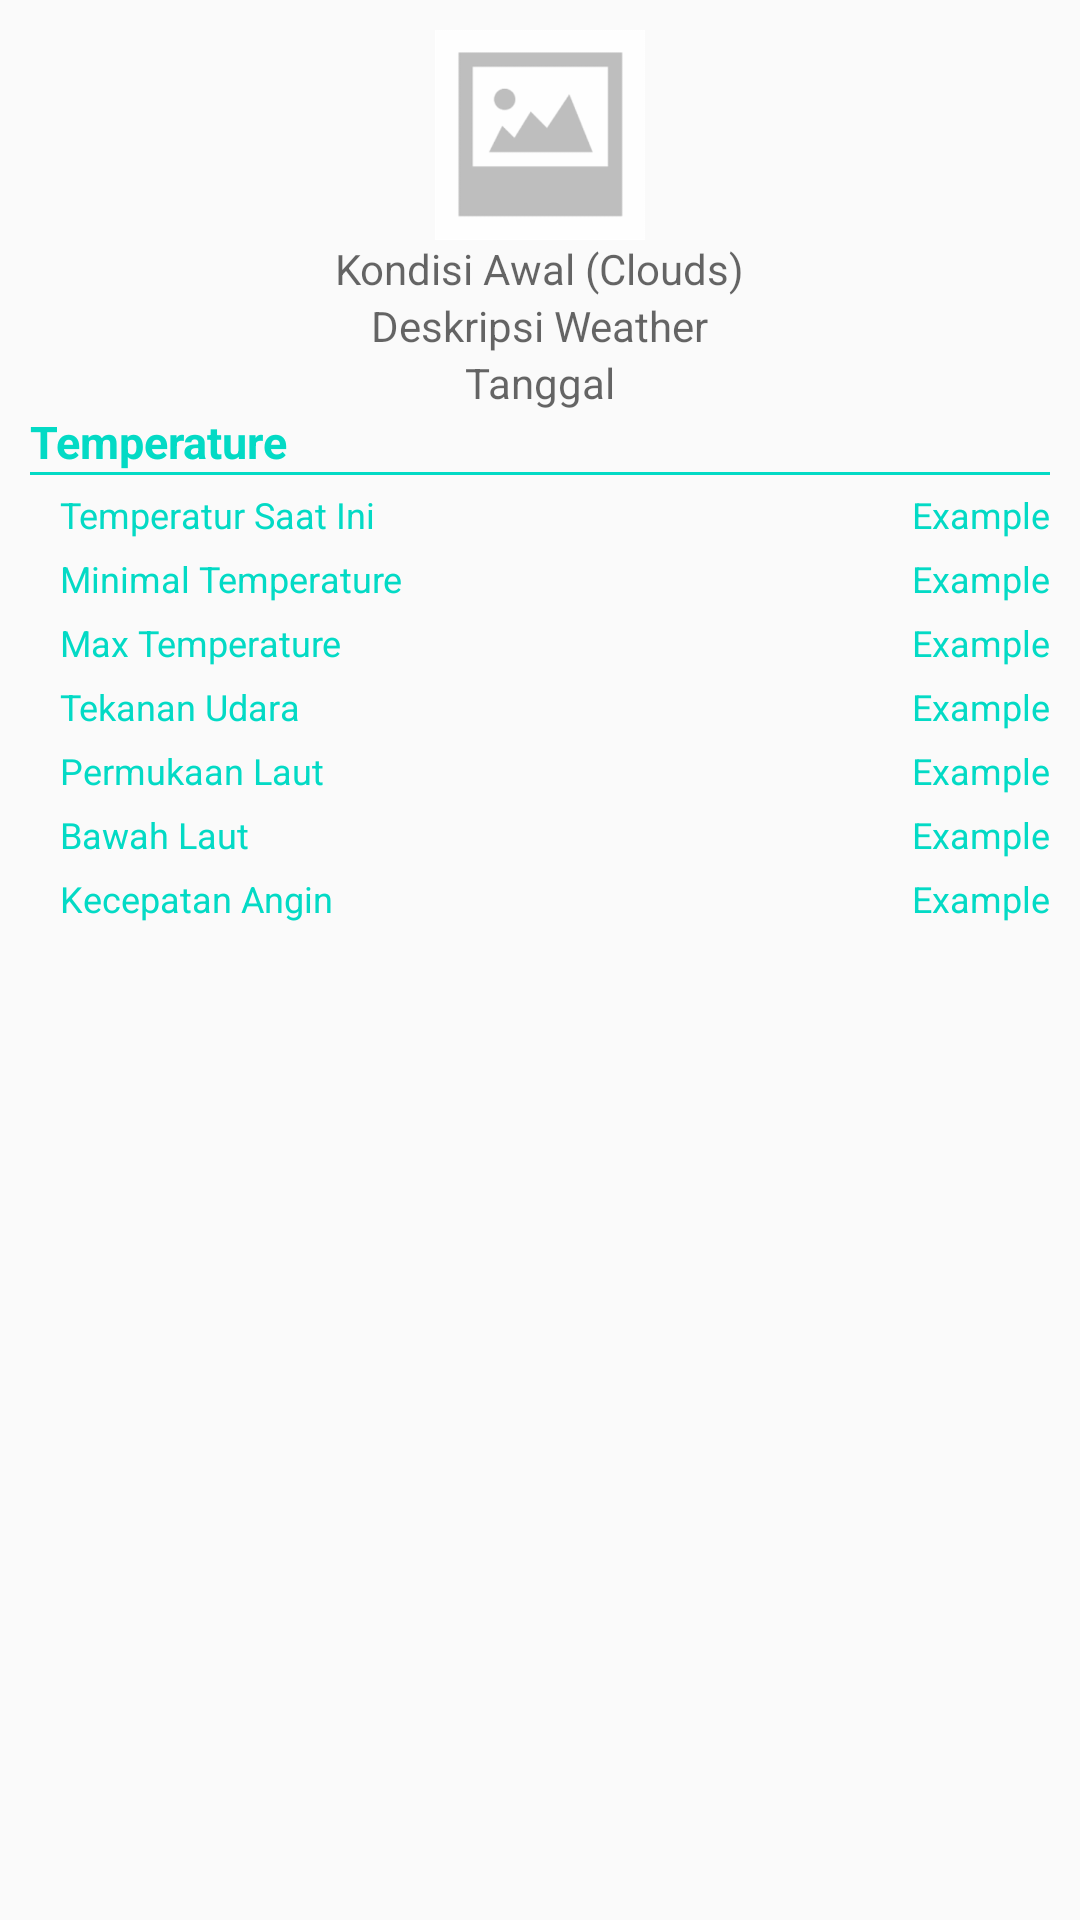

Point at icon controls on the screen. Image size 1080w x 1920h, points as [x,y].
noimage: [540,134]
